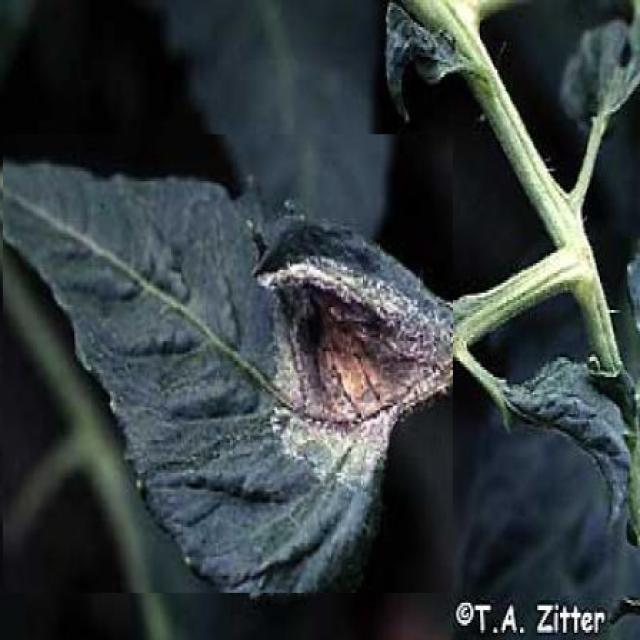Late Blight: (3, 134, 453, 593)
